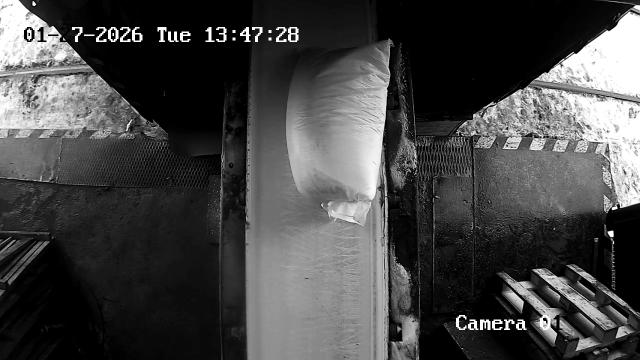bag: (286, 39, 390, 226)
